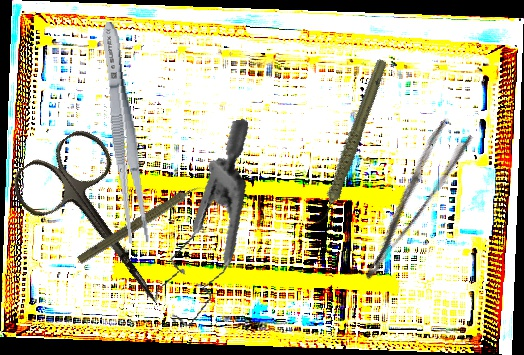Dressing Forceps: (340, 116, 477, 283), (94, 20, 154, 245)
Handpiece: (281, 56, 419, 228), (75, 176, 210, 270)
Iris Scissors: (4, 121, 197, 334)
Speculum: (113, 118, 284, 334)
